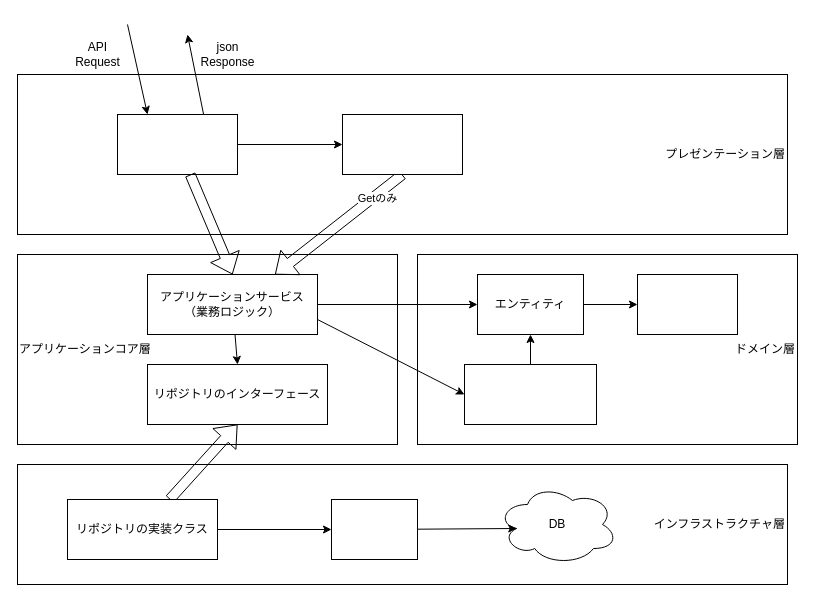
Image size: 815x602. Some labels were removed from this diagram. The shapes that lost their labels are listed below. From the top down, each one's centre as x and y in pixels, then its label:
the point at 177,144: コントローラ
the point at 402,144: Data Transfer Object
the point at 687,304: 値オブジェクト
the point at 530,394: ドメインサービス
the point at 374,529: O/Rマッパー
